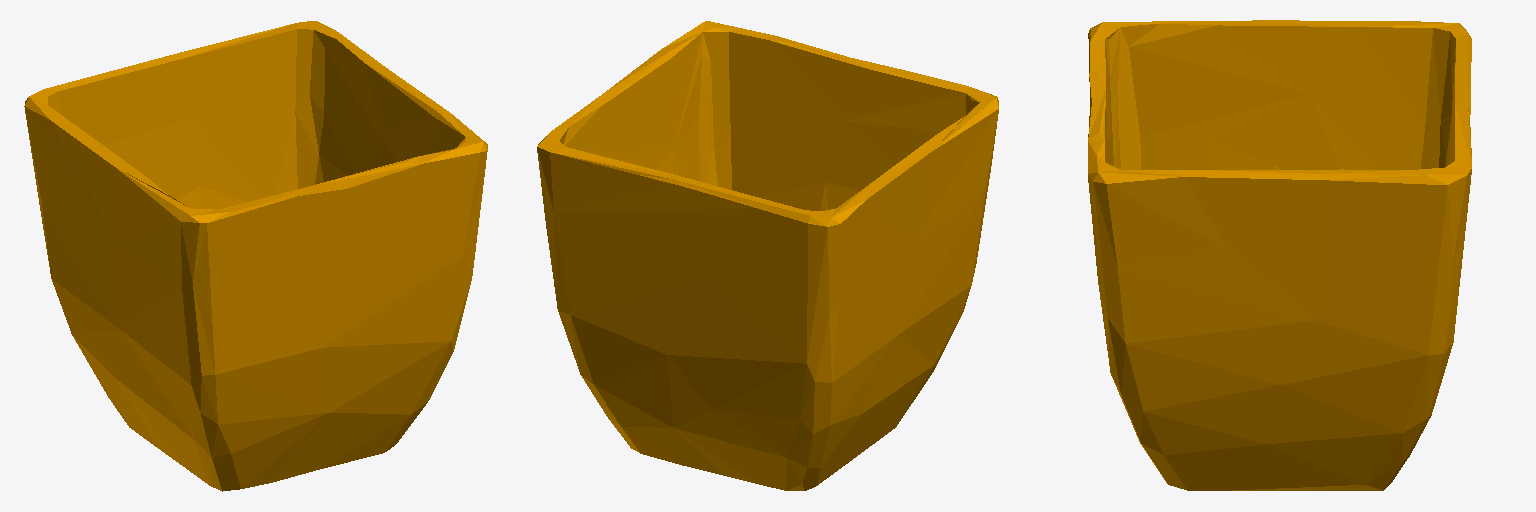
URDF robot description (EcoformsPlantContainerQPEbony):
<robot name="EcoformsPlantContainerQPEbony">
    <link name="base_link">
        <contact>
            <lateral_friction value="1.0" />
            <inertia_scaling value="3.0" />
        </contact>
        <inertial>
            <origin rpy="0 0 0" xyz="0 0 0" />
            <mass value="0.06755569879454194" />
            <inertia ixx="1" ixy="0" ixz="0" iyy="1" iyz="0" izz="1" />
        </inertial>
        <visual>
            <origin rpy="0 0 0" xyz="0 0 0" />
            <geometry>
                <mesh filename="model_lGzQi2Pk5uC.obj" rpy="0 0 0" />
            </geometry>
        </visual>
        <collision>
            <origin rpy="0 0 0" xyz="0 0 0" />
            <geometry>
                <mesh filename="model_lGzQi2Pk5uC_vhacd.obj" rpy="0 0 0" />
            </geometry>
        </collision>
    </link>
</robot>

--- What the picture shows (computed from the rendered views, not written in the file) ---
Views: 3 orthographic renders of the robot side by side, from view 1: azimuth 30°, elevation 25°; view 2: azimuth 150°, elevation 25°; view 3: azimuth 270°, elevation 25°.
Model EcoformsPlantContainerQPEbony with 1 links and 0 joints (none), rooted at base_link, posed all joints at 0.
Links seen in each view (by area): view 1: base_link; view 2: base_link; view 3: base_link.
Boxes of the visible links, box(x1,y1,x2,y2) form: base_link: box(24, 21, 487, 491); base_link: box(537, 21, 998, 490); base_link: box(1088, 20, 1471, 490).
Bounding box of the posed robot: 0.0881 × 0.0879 × 0.0902 m (x, y, z).
Meshes: 1 distinct files referenced, 1 mesh visuals loaded (1 OBJ).
